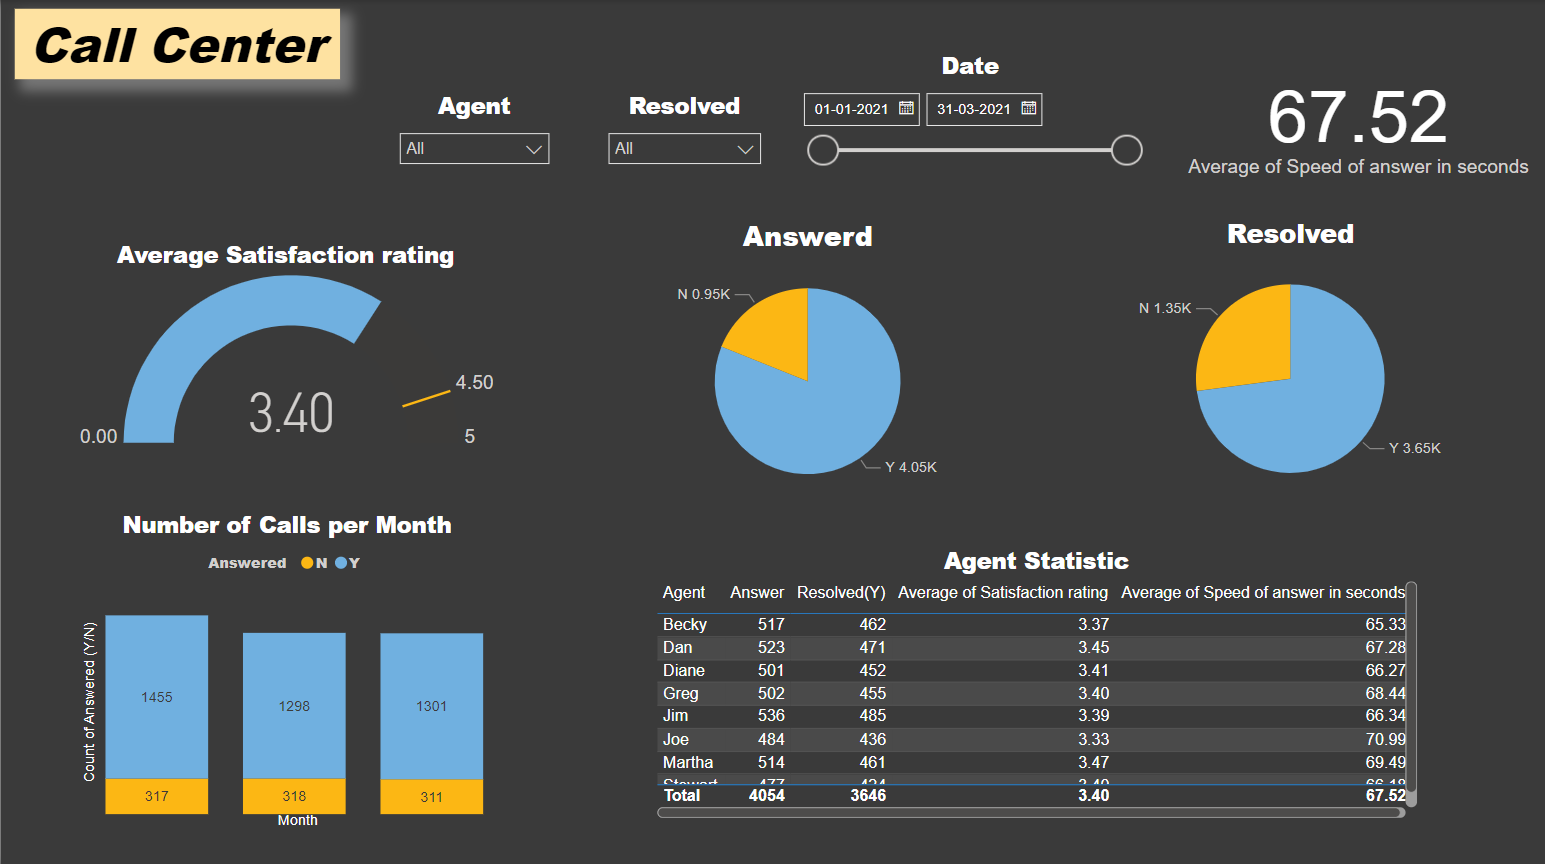

The page's visual inventory and layout, read from the dashboard file:
{"tool":"powerbi","page":{"name":"Page 1","canvas":[1280,720],"ordinal":0},"visuals":[{"type":"slicer","title":"Agent","fields":{"Values":["Sheet1.Agent"]},"box":[319.8,73.3,144.2,76.7],"z":0},{"type":"slicer","title":"Resolved","fields":{"Values":["Sheet1.Resolved"]},"box":[493,73.3,146.5,74.4],"z":1},{"type":"slicer","title":"Date","fields":{"Values":["Sheet1.Date"]},"box":[652.3,40.7,301.2,103.5],"z":2},{"type":"gauge","title":"Average Satisfaction rating ","fields":{"Y":["Sheet1.Satisfaction rating"],"MaxValue":["Sheet1.Satisfaction rating"]},"box":[20.9,196.5,430.2,180.2],"z":3},{"type":"pieChart","title":"Answerd","fields":{"Category":["Sheet1.Answered (Y/N)"],"Y":["Sheet1.Answered (Y/N)"]},"box":[464,179.1,409.3,241.9],"z":4},{"type":"pieChart","title":"Resolved","fields":{"Category":["Sheet1.Resolved"],"Y":["Sheet1.Resolved"]},"box":[858.1,178.6,421.9,242.1],"z":5},{"type":"columnChart","title":"Number of Calls per Month","fields":{"Category":["Sheet1.Date.Variation.Date Hierarchy.Month"],"Y":["Sheet1.Answered (Y/N)"],"Series":["Sheet1.Answered (Y/N)"]},"box":[62.8,420.9,347.7,270.9],"z":6},{"type":"card","fields":{"Values":["Sheet1.Speed of answer in seconds"]},"box":[970.9,31.4,309.3,139.5],"z":7},{"type":"tableEx","title":"Agent Statistic","fields":{"Values":["Sheet1.Agent","Sheet1.Answer","Sheet1.Resolved(Y)","Sheet1.Satisfaction rating","Sheet1.Speed of answer in seconds"]},"box":[537.2,451.2,640.7,232.6],"z":8},{"type":"textbox","title":"Call Center","box":[11.6,7,269.8,58.1],"z":9}]}

Visuals, with their boxes in screenshot pixels (x1, y1, x2, y2), scaled from the page's 1280x720 canvas onto the 1545x864 screenshot:
"Agent" slicer: (386,88,560,180)
"Resolved" slicer: (595,88,772,177)
"Date" slicer: (787,49,1151,173)
"Average Satisfaction rating " gauge: (25,236,544,452)
"Answerd" pieChart: (560,215,1054,505)
"Resolved" pieChart: (1036,214,1544,505)
"Number of Calls per Month" columnChart: (76,505,495,830)
card - Sheet1.Speed of answer in seconds: (1172,38,1544,205)
"Agent Statistic" tableEx: (648,541,1422,821)
"Call Center" textbox: (14,8,340,78)
